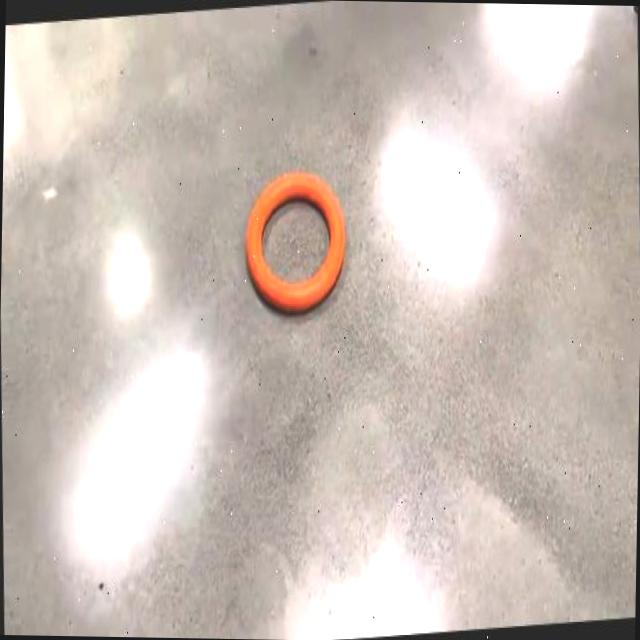note: (245, 171, 344, 311)
